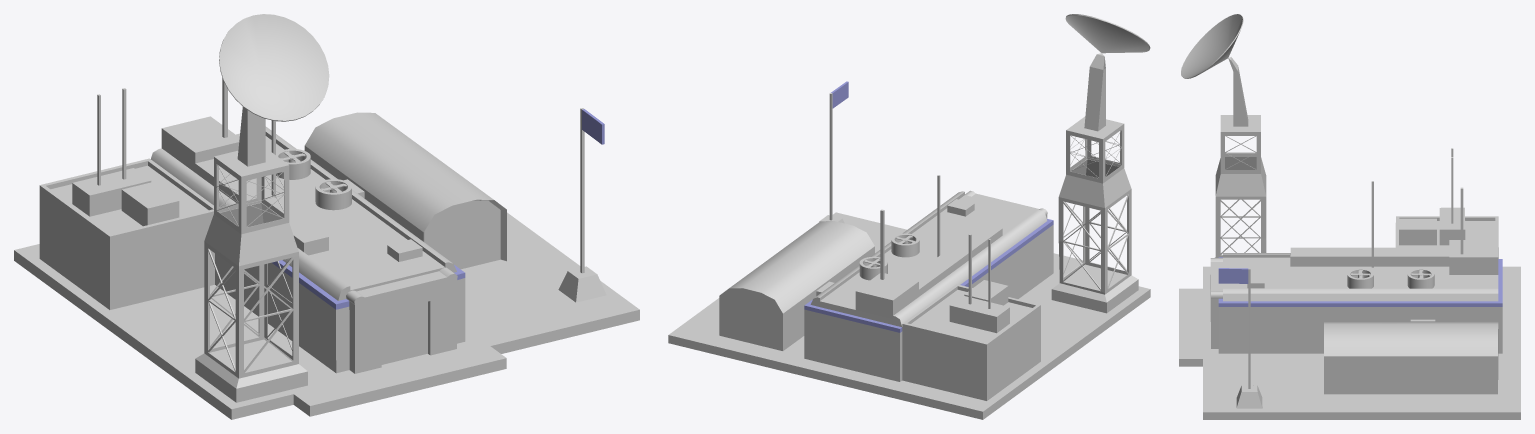
The model's file is command_center.fbx.
3 views of the same model, side by side, from view 1: azimuth 30°, elevation 25°; view 2: azimuth 150°, elevation 25°; view 3: azimuth 270°, elevation 25° (orthographic). The views are drawn at different scales.
Parts seen in each view (by area): view 1: Cube, Cube.001; view 2: Cube; view 3: Cube.
Part boxes in pixels (left/top/right/bottom): Cube: left=14, top=14, right=639, bottom=419; Cube.001: left=424, top=200, right=500, bottom=269; Cube: left=668, top=14, right=1150, bottom=419; Cube: left=1179, top=14, right=1520, bottom=419.
Size of the model in its own units: 8034 by 6975 by 7936.
